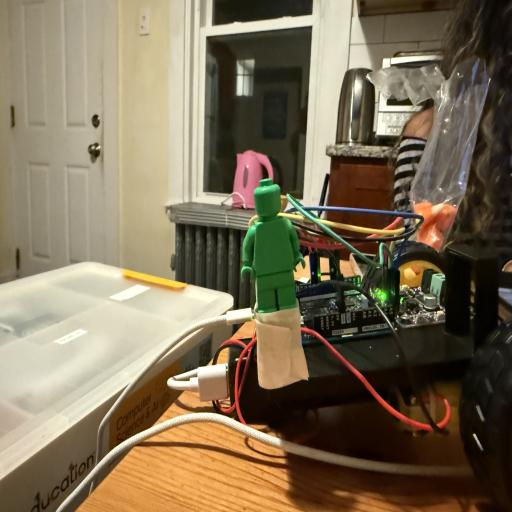Minifig: (241, 179, 305, 313)
